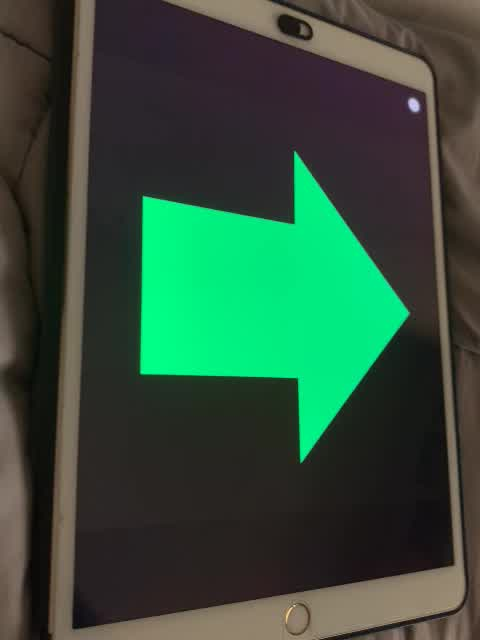right: (134, 142, 412, 467)
